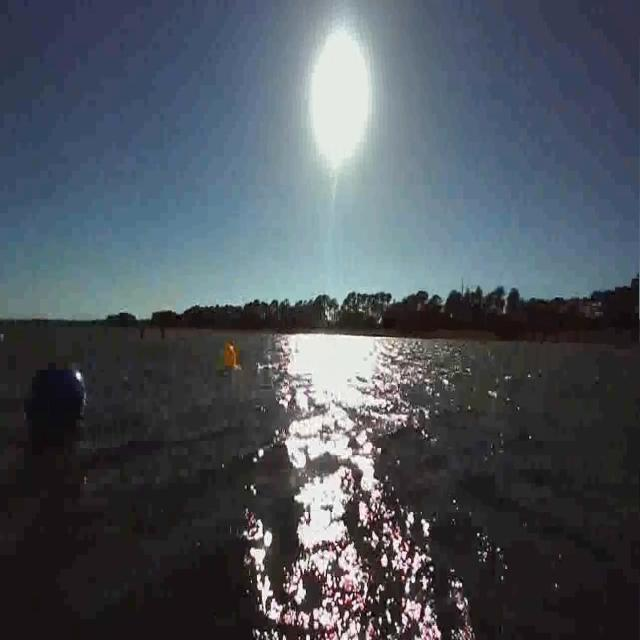blue-buoy: (24, 363, 92, 445)
yellow-buoy: (224, 342, 237, 364), (608, 383, 614, 394)
